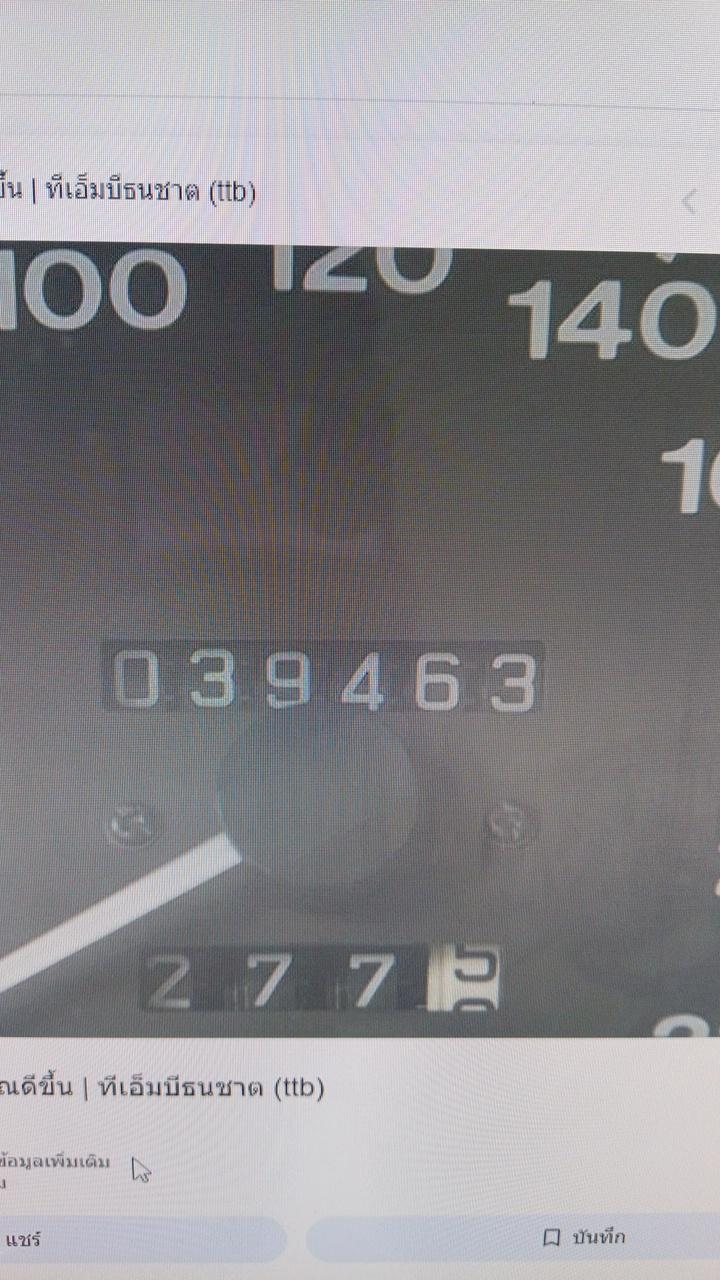0: (112, 647, 160, 708)
3: (187, 647, 236, 709), (489, 652, 537, 715)
4: (339, 648, 385, 712)
6: (414, 650, 462, 713)
9: (265, 650, 312, 712)
odometer: (100, 637, 545, 719)
